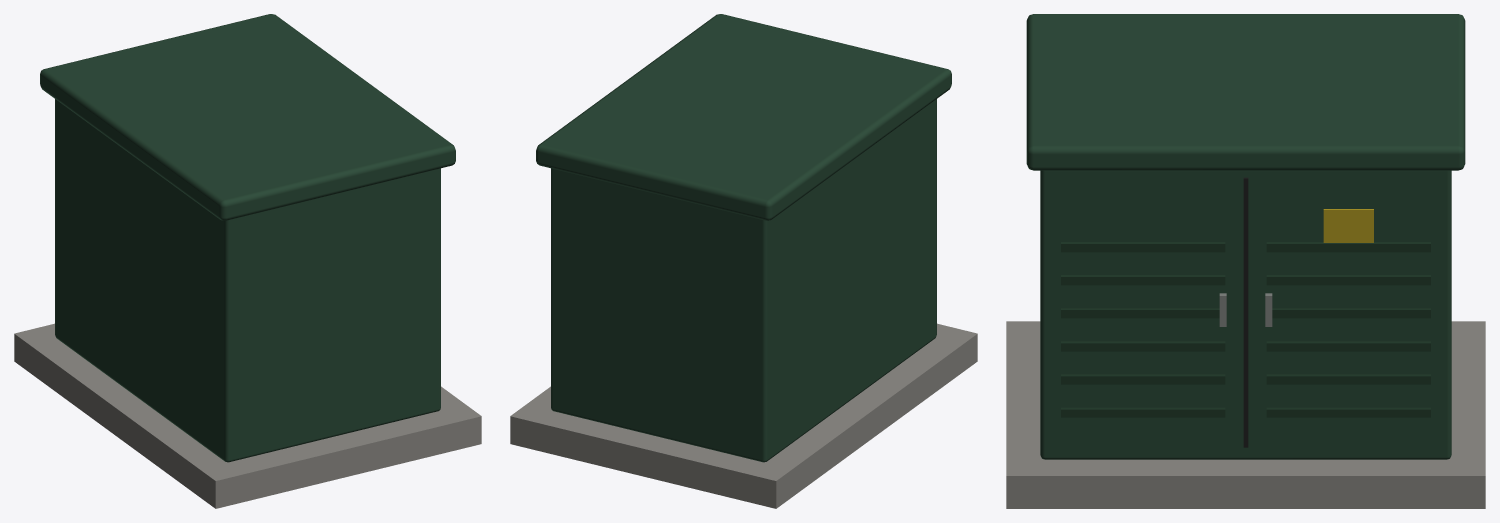
File: SM_Prop_power_kiosk_1.glb
3 views of the same model, side by side, from view 1: azimuth 30°, elevation 25°; view 2: azimuth 150°, elevation 25°; view 3: azimuth 270°, elevation 25° (orthographic). The views are drawn at different scales.
Parts seen in each view (by area): view 1: SM_Prop_power_kiosk_1; view 2: SM_Prop_power_kiosk_1; view 3: SM_Prop_power_kiosk_1.
Boxes of the visible parts, <box> form: SM_Prop_power_kiosk_1: <box>14,14,481,508</box>; SM_Prop_power_kiosk_1: <box>510,14,977,508</box>; SM_Prop_power_kiosk_1: <box>1006,14,1485,508</box>.
Bounding box in the file's own units: 1.6 × 1.7 × 2.1.
